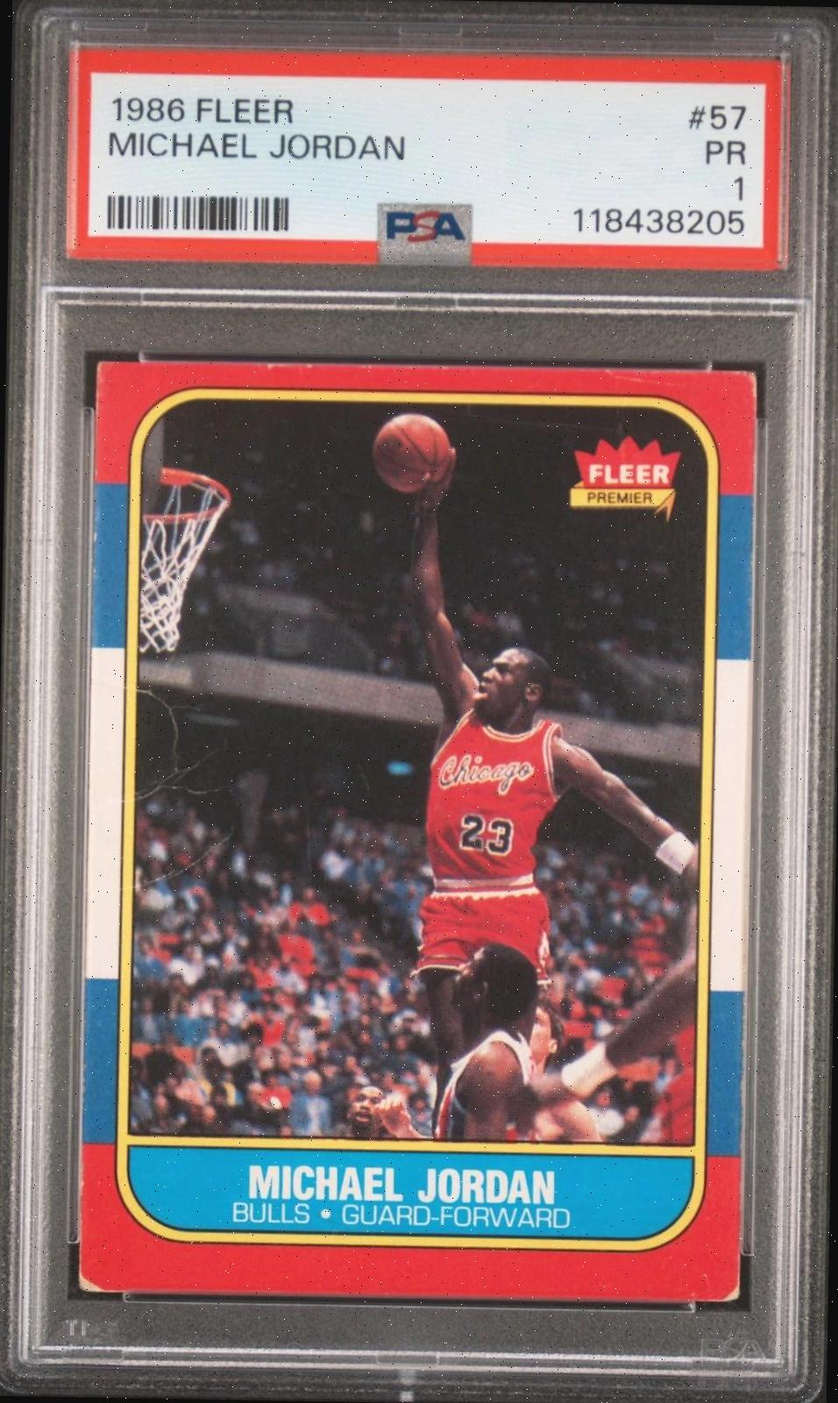card-2UtV: (77, 360, 758, 1303)
